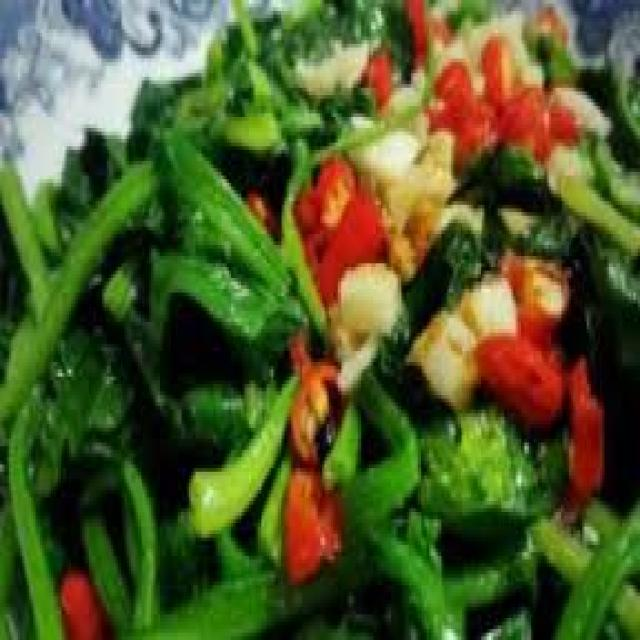organic waste: (0, 186, 638, 636), (233, 0, 638, 187), (58, 22, 236, 190), (409, 399, 564, 530), (360, 132, 449, 270), (471, 333, 565, 428), (287, 336, 349, 472), (556, 347, 604, 501), (405, 303, 471, 406), (498, 238, 569, 329), (284, 457, 340, 571), (0, 165, 49, 292), (318, 186, 376, 292), (294, 150, 356, 249), (451, 81, 509, 179), (291, 29, 367, 102), (438, 15, 520, 70), (498, 73, 546, 157), (458, 263, 518, 329), (58, 552, 104, 636), (476, 29, 520, 110), (553, 84, 611, 143), (429, 190, 489, 242), (429, 55, 469, 128), (542, 136, 591, 187), (384, 62, 418, 128), (249, 176, 287, 230), (546, 91, 576, 139), (500, 198, 536, 230), (216, 252, 242, 286)
